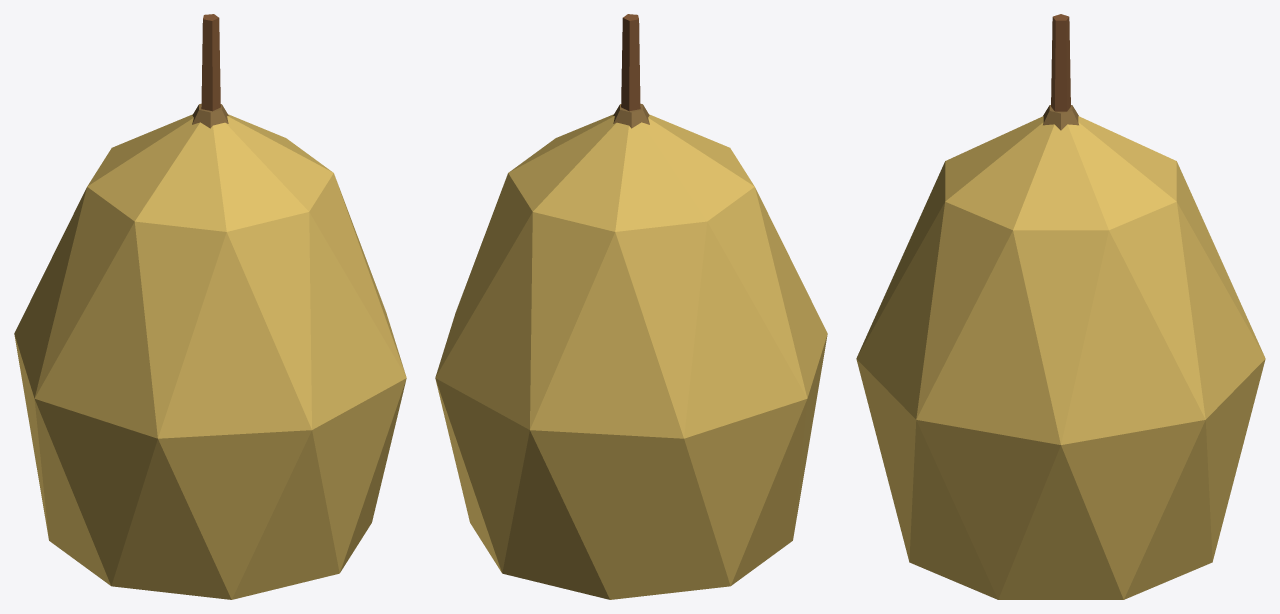
File: Dorf_Heuschober.fbx
3 renders of one model, left to right at view 1: azimuth 30°, elevation 25°; view 2: azimuth 150°, elevation 25°; view 3: azimuth 270°, elevation 25°, orthographic.
Parts seen in each view (by area): view 1: Dorf_Heuschober; view 2: Dorf_Heuschober; view 3: Dorf_Heuschober.
Boxes of the visible parts, box(x1,y1,x2,y2) form: Dorf_Heuschober: box(14, 14, 406, 599); Dorf_Heuschober: box(435, 14, 827, 599); Dorf_Heuschober: box(856, 14, 1265, 599).
Size of the model in its own units: 1.85 by 2.6 by 1.85.
